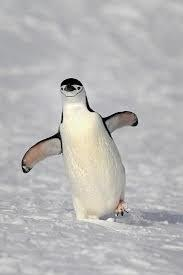chinstrap: (16, 69, 159, 236)
